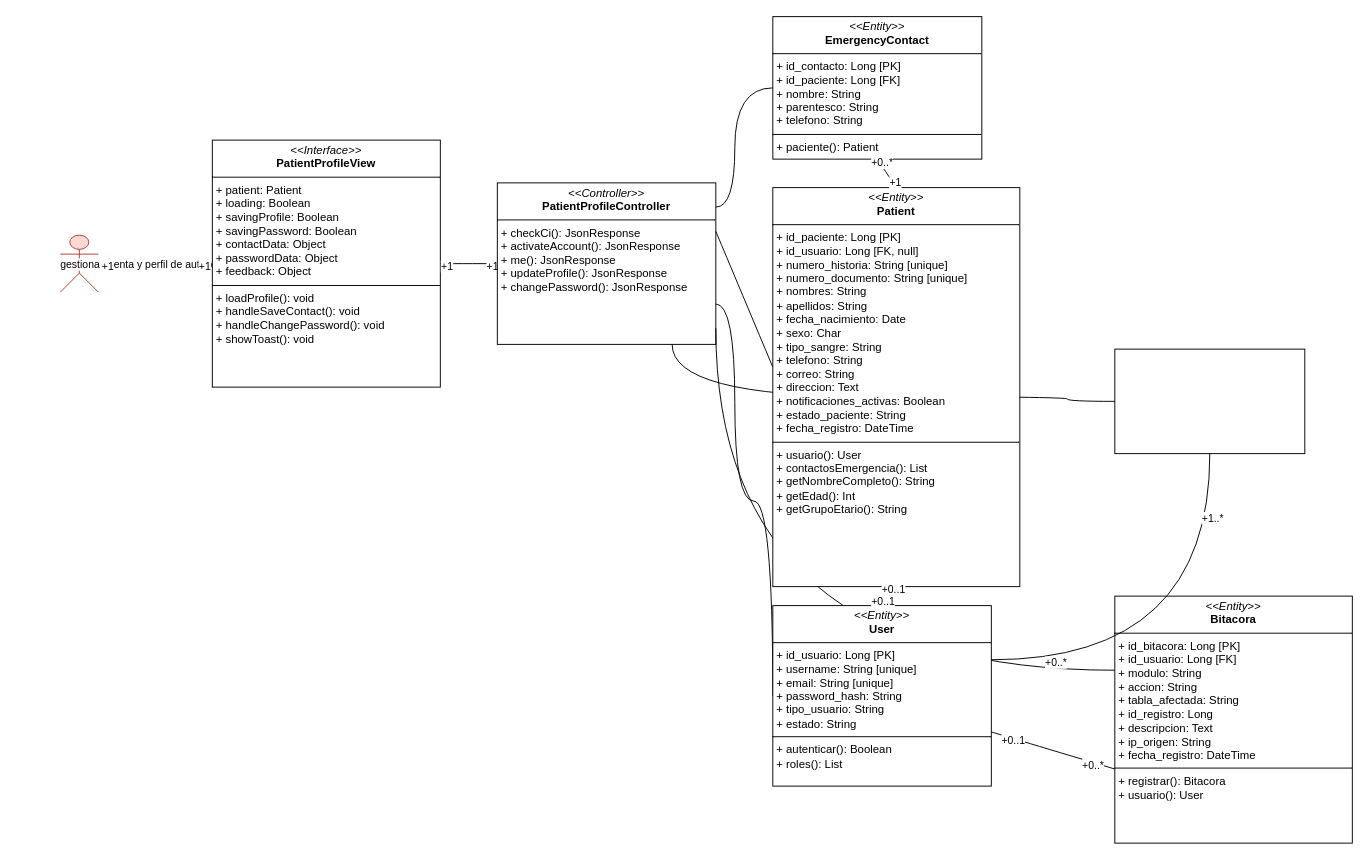
The diagram is 1369 pixels wide and 860 high, and some of its shapes have lost their labels. The box of each missing label's shape, as (x1, y1, x2, y2) in pixels:
<<Entity>> Role + id_rol: Long [PK] + nombre: String [unique] + usuarios(): List: (1114, 348, 1305, 454)
Paciente / Recepcionista: (59, 234, 98, 292)
